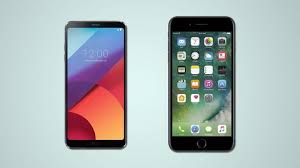iphone: (165, 10, 239, 154)
iphone7: (163, 9, 237, 153)
